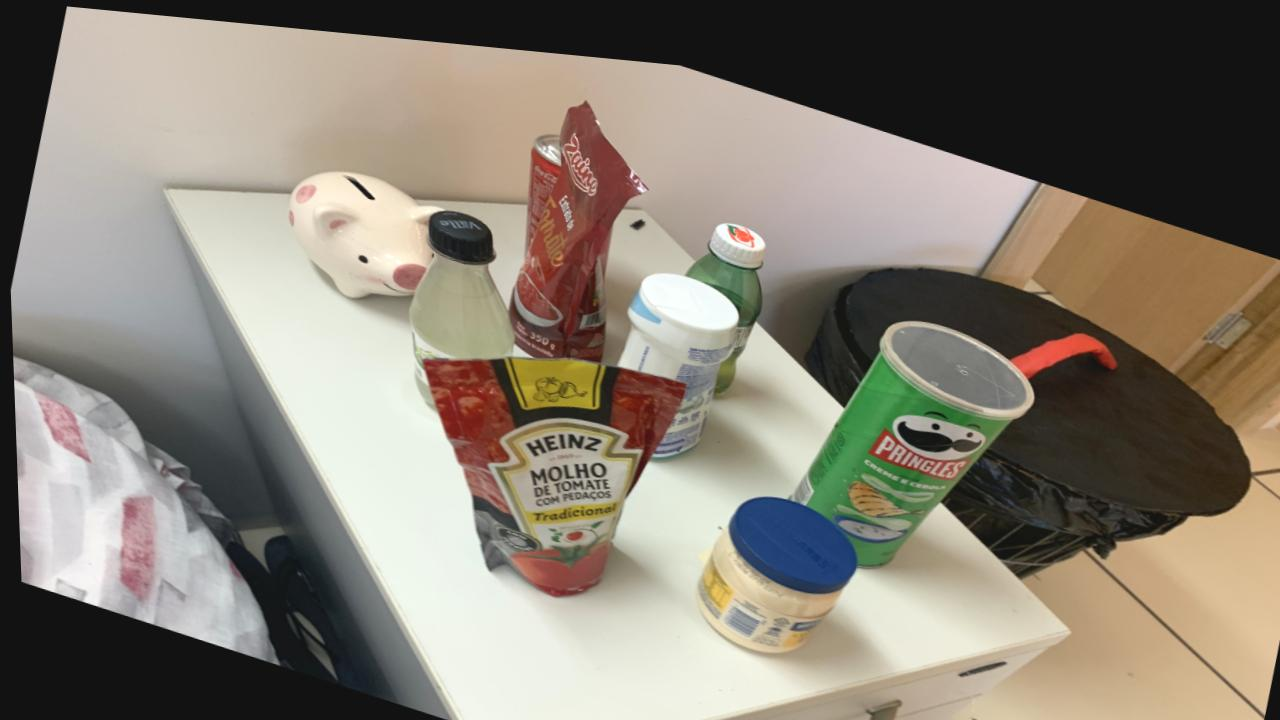Cleaner-Cleanup_Items: (615, 259, 736, 446)
Coke-Drinks: (523, 122, 561, 242)
Guarana-Drinks: (683, 208, 765, 378)
Mayonnaise-Pantry_Items: (692, 481, 853, 638)
Pig_Safe-Miscellaneous: (285, 164, 440, 291)
Pringles-Snacks: (789, 301, 1031, 549)
Soda-Drinks: (406, 200, 512, 398)
Tomato_Sauce-Pantry_Items: (421, 347, 681, 586), (506, 91, 646, 350)
